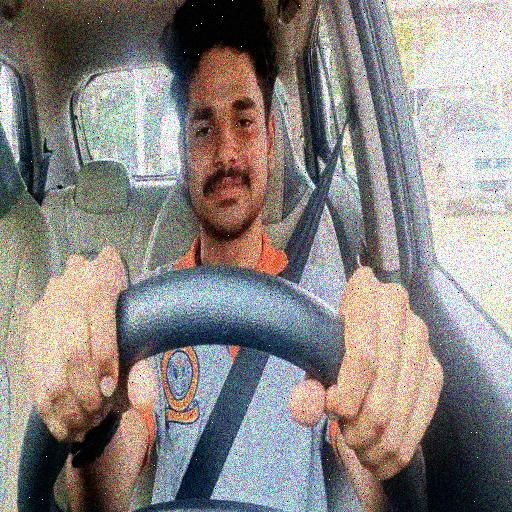sleepy: (73, 0, 418, 453)
